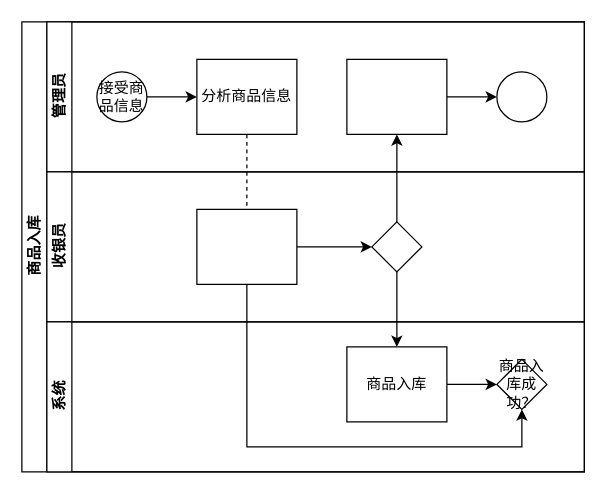
The diagram is 606 pixels wide and 494 high, and some of its shapes have lost their labels. Each missing label, with the centre of its shape:
"库存是否更新" belongs at pixel 396 246.
"指定商品入库方案" belongs at pixel 396 96.
"方案提交审核" belongs at pixel 521 96.
"核算库存" belongs at pixel 246 246.
